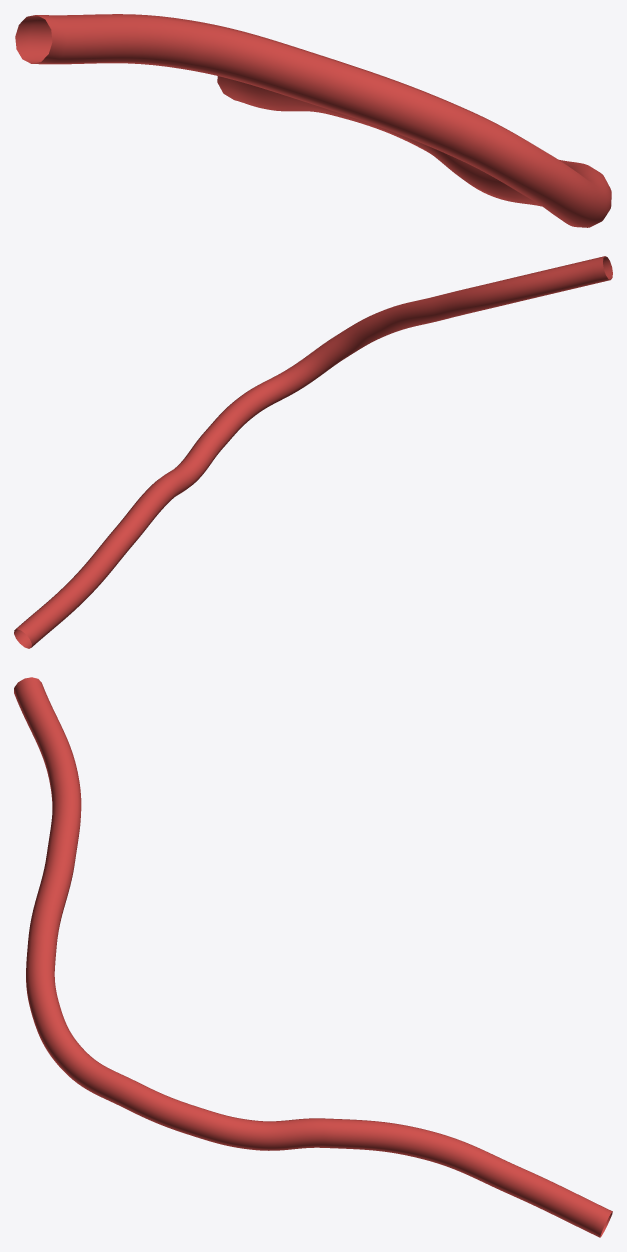
The picture shows the model from 3 angles, top to bottom: view 1: azimuth 30°, elevation 25°; view 2: azimuth 150°, elevation 25°; view 3: azimuth 270°, elevation 25°; orthographic projection. The views are drawn at different scales.
Visible parts, largest first — view 1: 右侧腭降动脉; view 2: 右侧腭降动脉; view 3: 右侧腭降动脉.
Boxes of the visible parts, x1,y1,x2,y2 form: 右侧腭降动脉: (15,14,611,227); 右侧腭降动脉: (14,256,612,648); 右侧腭降动脉: (14,677,612,1237).
Bounding box in the file's own units: 0.0247 × 0.0197 × 0.0297.
